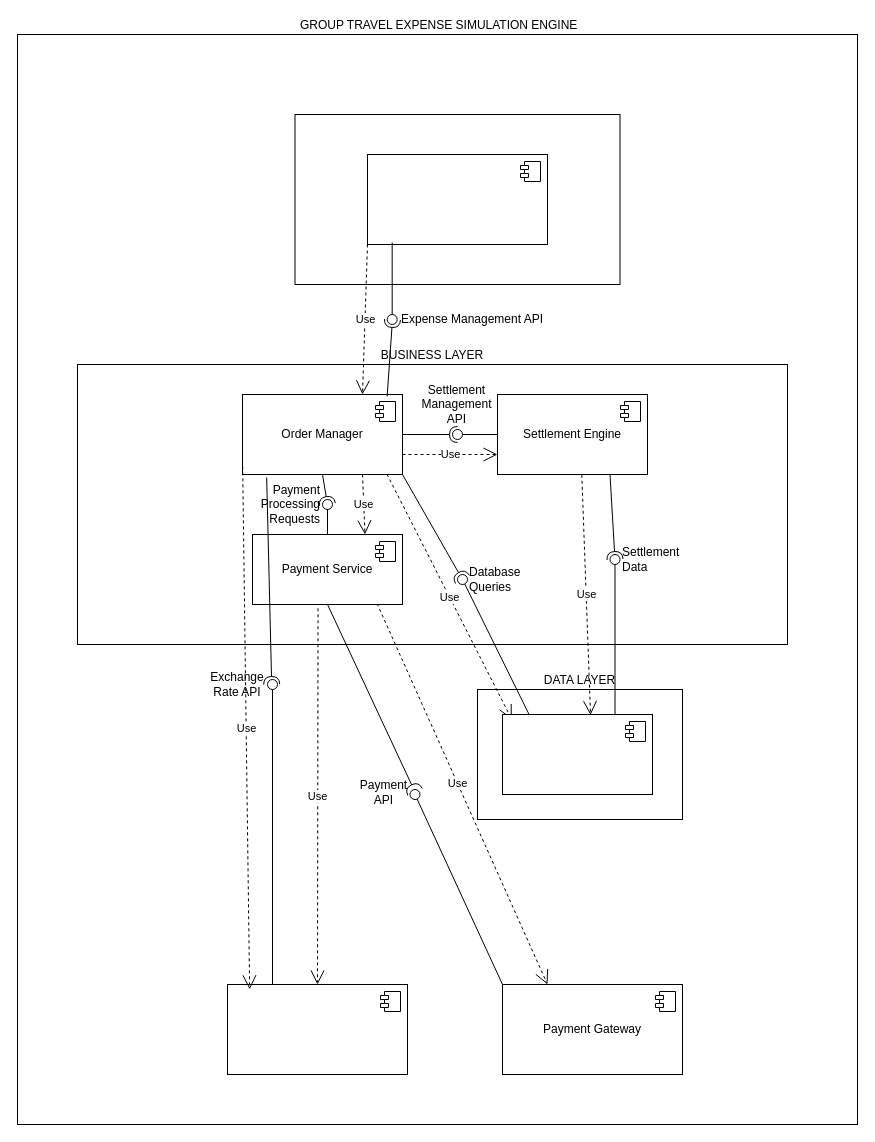
Some shapes in this 875 by 1142 pixel diagram are drawn without their labels. The shapes that lost their labels are listed below. From the top down, each one's box as (x1, y1, x2, y2) in pixels, then its label:
(294, 114, 620, 284): PRESENTATION LAYER
(366, 154, 548, 244): User Interface
(502, 714, 652, 794): Database
(226, 984, 408, 1074): Currency Exchange Service
